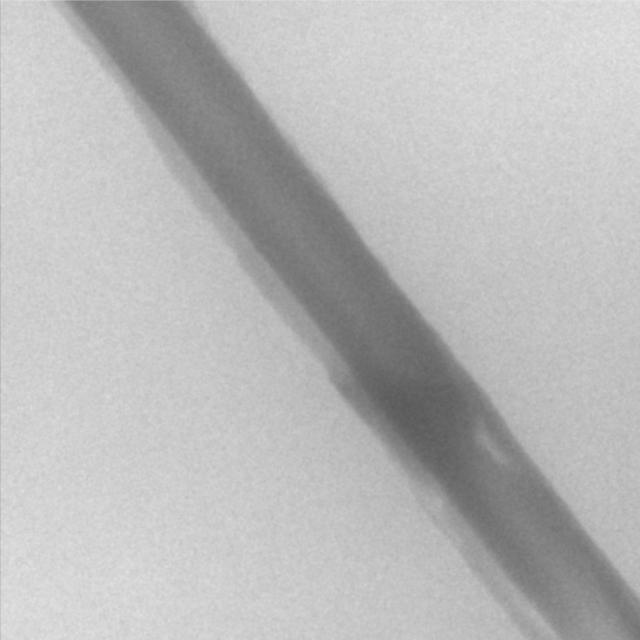unfused: (475, 427, 510, 470)
